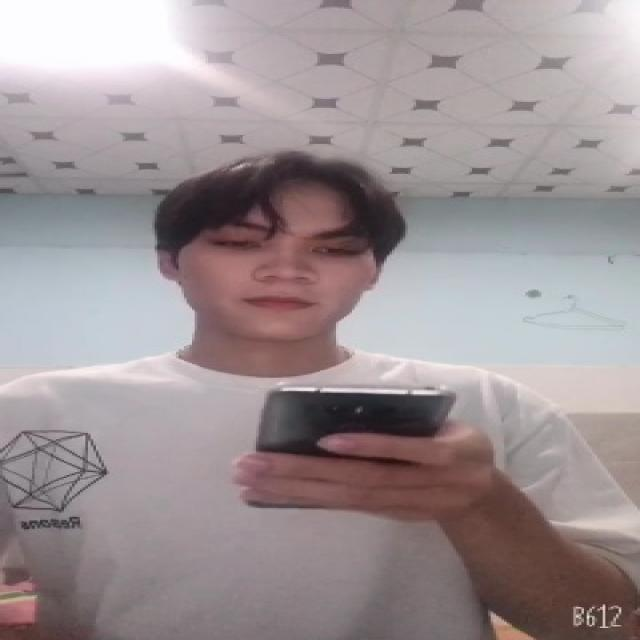Phone: (253, 382, 463, 462)
